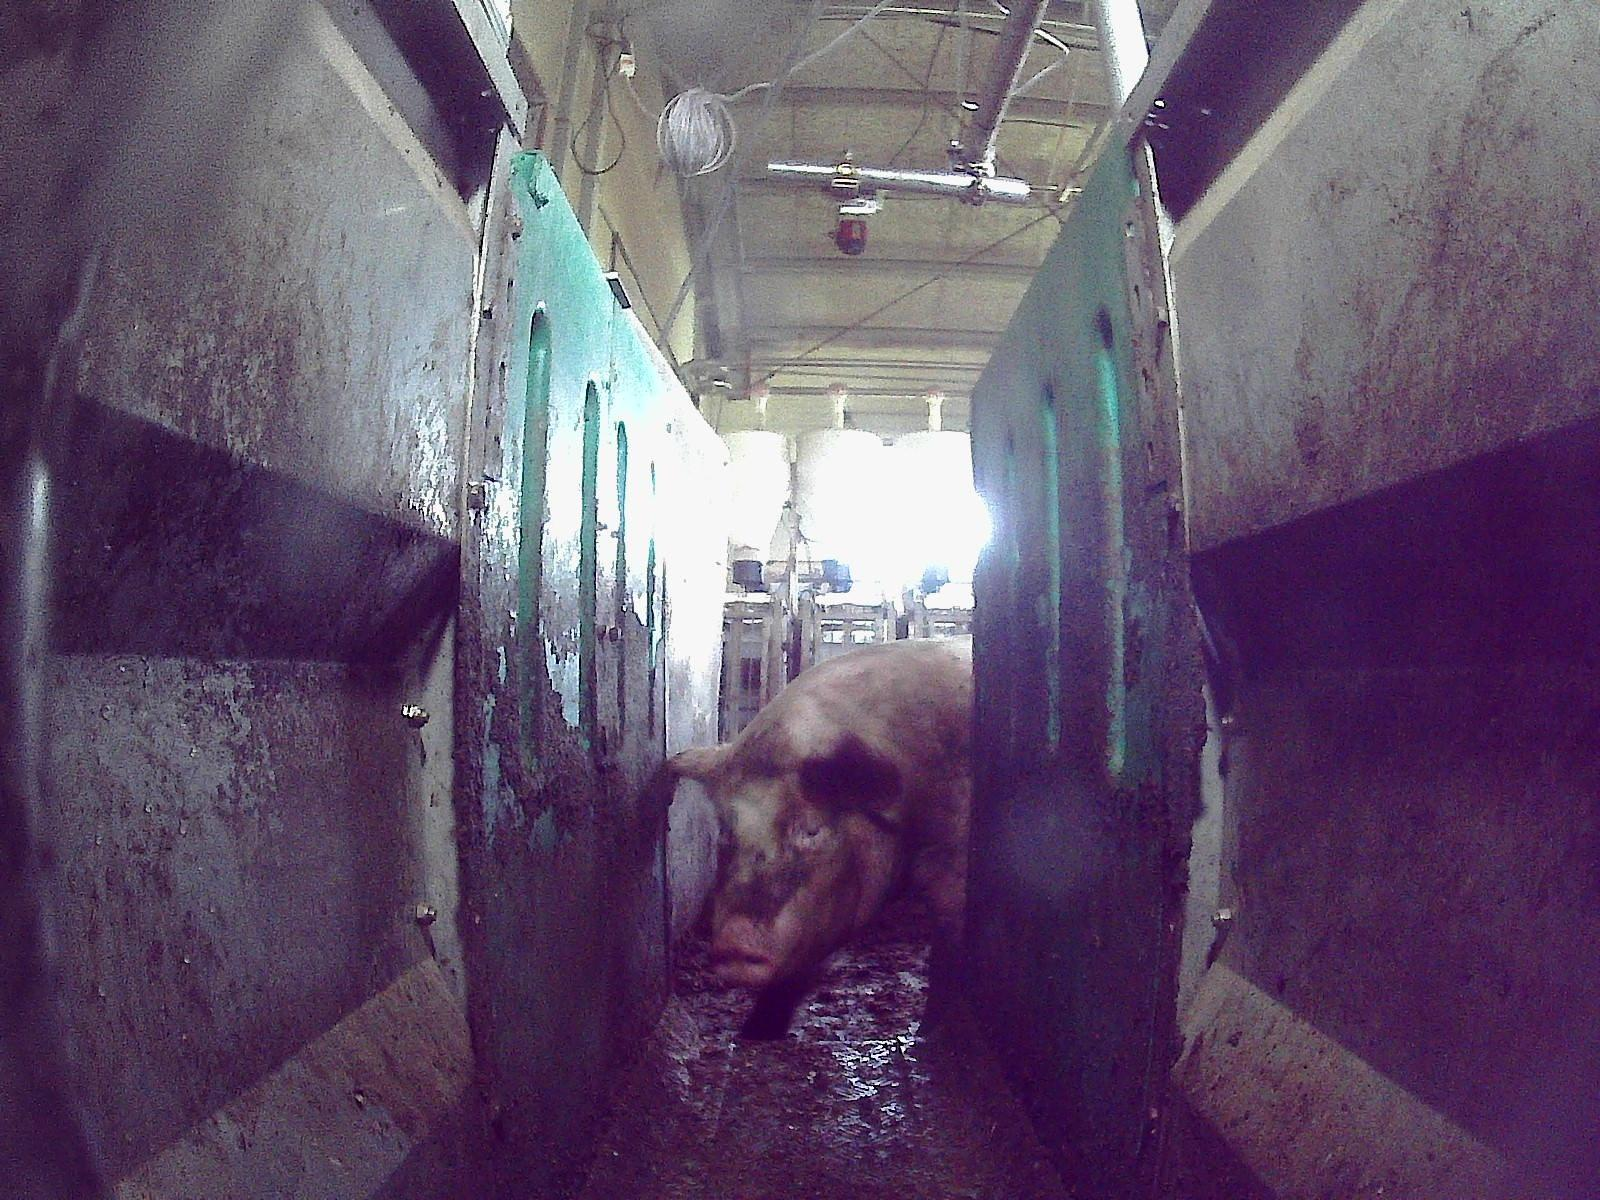Face: (706, 754, 879, 992)
